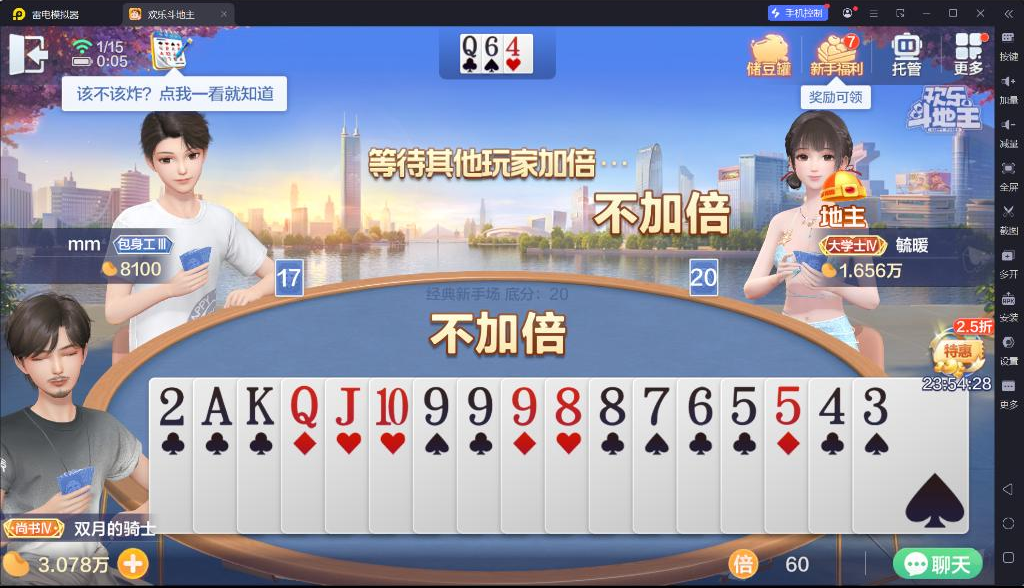A: (198, 383, 236, 429)
J: (330, 384, 363, 428)
K: (244, 383, 278, 428)
Q: (287, 382, 321, 430), (461, 35, 480, 59)
eight: (552, 384, 585, 428), (595, 384, 628, 428)
five: (769, 384, 805, 428), (725, 383, 758, 427)
four: (814, 384, 850, 427), (504, 35, 521, 57)
nine: (419, 384, 452, 430), (508, 383, 538, 429), (463, 384, 494, 427)
seven: (639, 384, 671, 427)
six: (685, 383, 715, 428), (482, 35, 501, 57)
ten: (373, 382, 410, 429)
three: (860, 384, 890, 427)
two: (156, 383, 188, 429)
